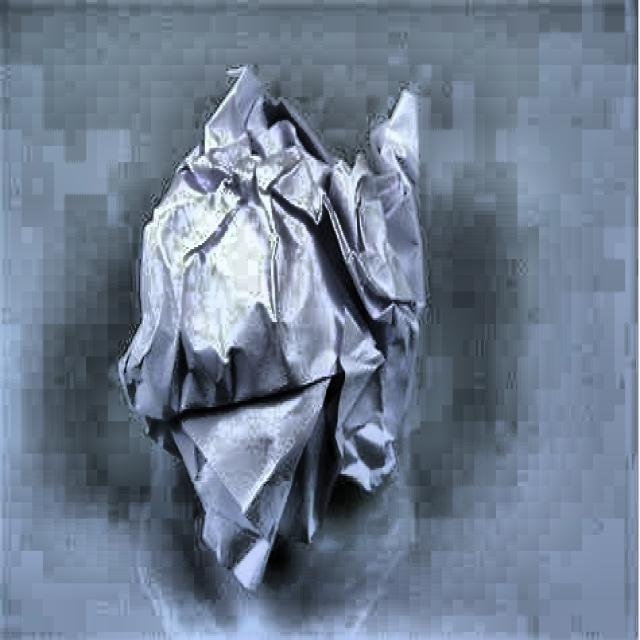Paper: (117, 55, 432, 596)
